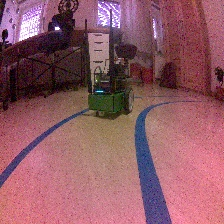rob: (87, 63, 134, 118)
